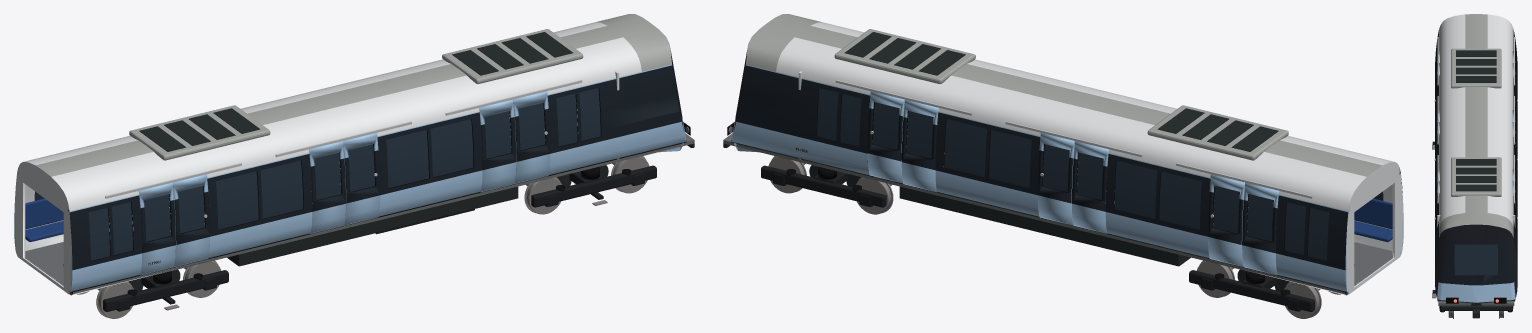
File: mf19__tail.glb
3 renders of one model, left to right at view 1: azimuth 30°, elevation 25°; view 2: azimuth 150°, elevation 25°; view 3: azimuth 270°, elevation 25°, orthographic. The views are drawn at different scales.
Parts seen in each view (by area): view 1: mf19_tail; view 2: mf19_tail; view 3: mf19_tail.
Boxes of the visible parts, box(x1,y1,x2,y2) form: mf19_tail: box(14, 14, 694, 318); mf19_tail: box(723, 14, 1403, 318); mf19_tail: box(1432, 14, 1517, 318).
Bounding box in the file's own units: 15.5 × 3.51 × 2.54.
Materials: 9 (4 with a texture image).
